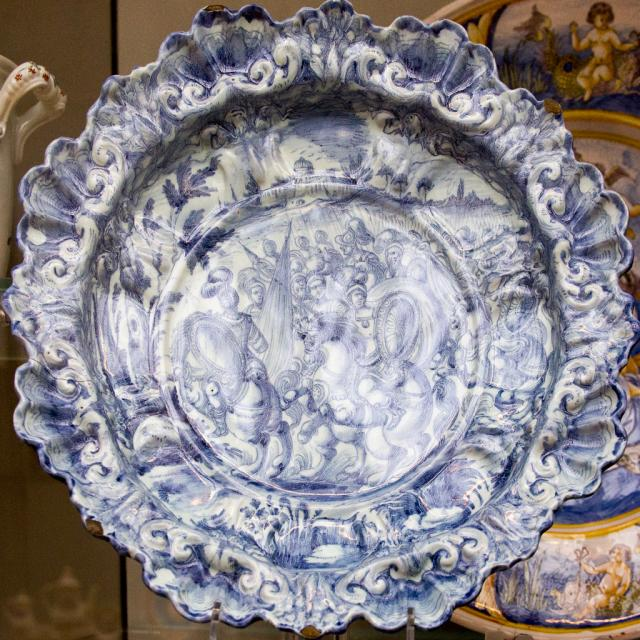non-organic waste: (10, 6, 640, 616)
